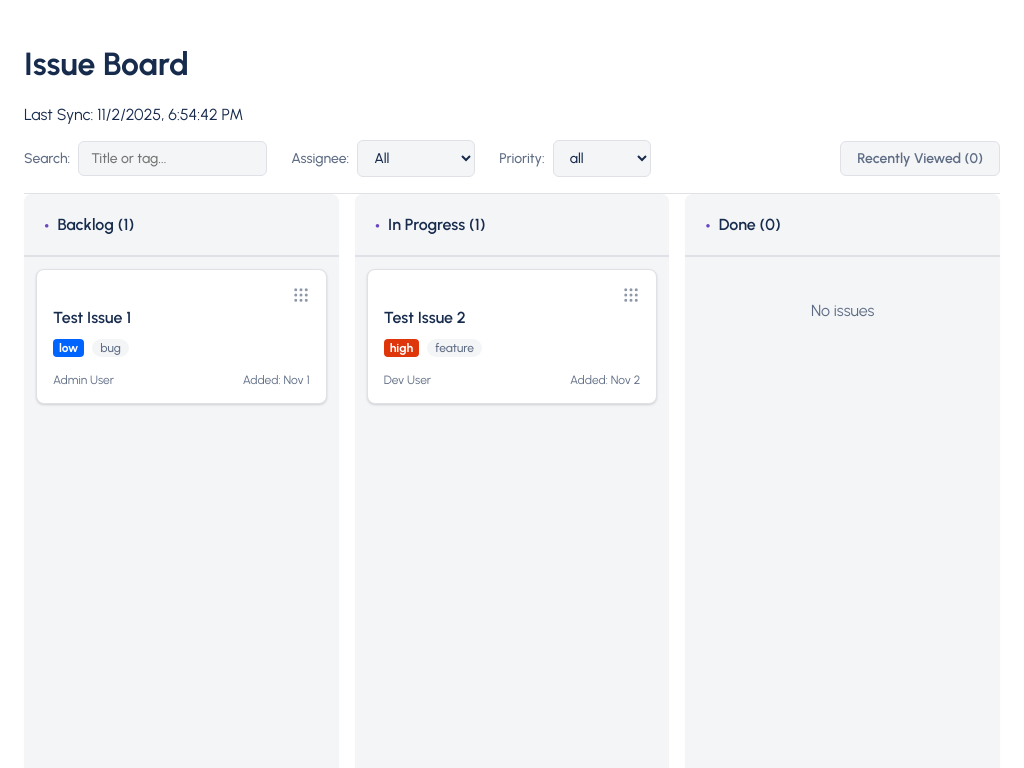
Test: BoardPage User Flow › should load, display, and filter issues
Expected: the text "Test Issue 1" is shown, [53,308,131,327]
Expected: the text "Test Issue 2" is shown, [384,308,466,327]
In the field with placeholder "Title or tag...": (173, 158) [78,141,267,176], type "feature"
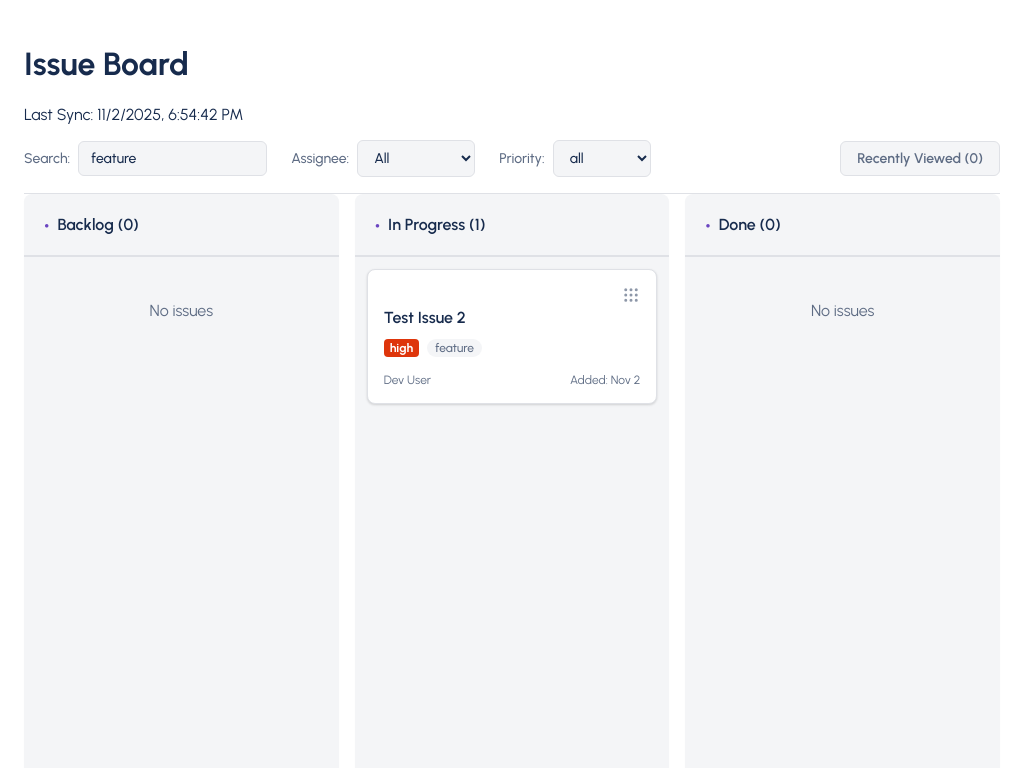
Expected: the text "Test Issue 2" is shown, [384,308,466,327]
Expected: the button "Test Issue 1" is gone
Clear the field with placeholder "Title or tag...": (173, 158) [78,141,267,176]
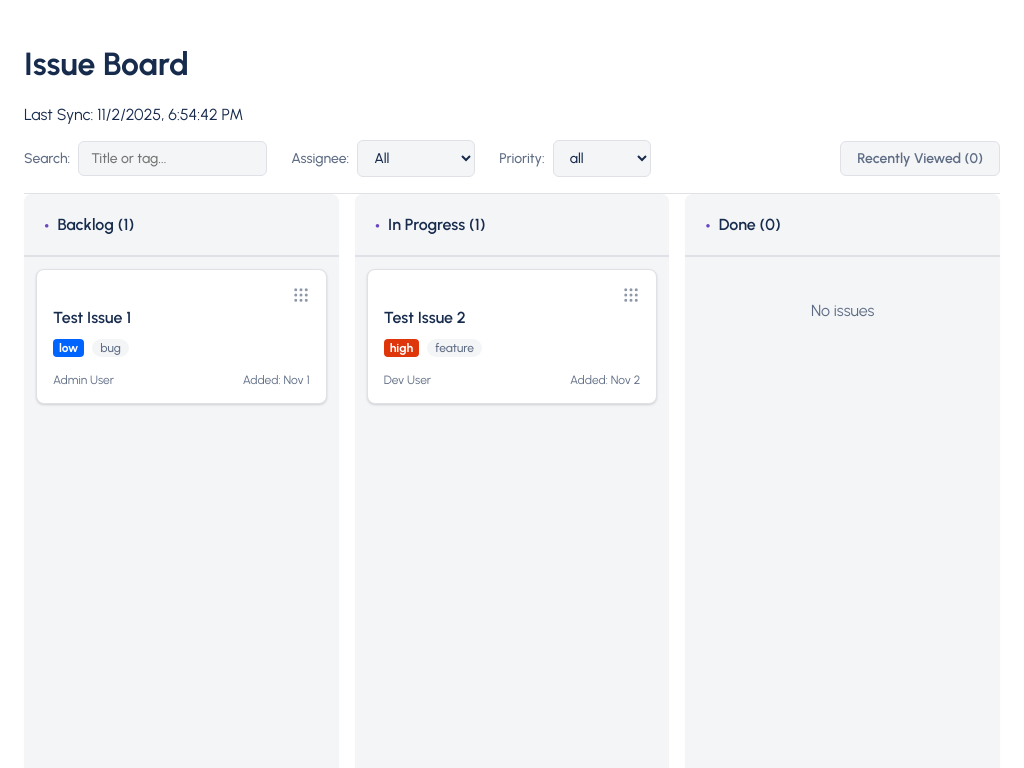
Expected: the text "Test Issue 1" is shown, [53,308,131,327]
